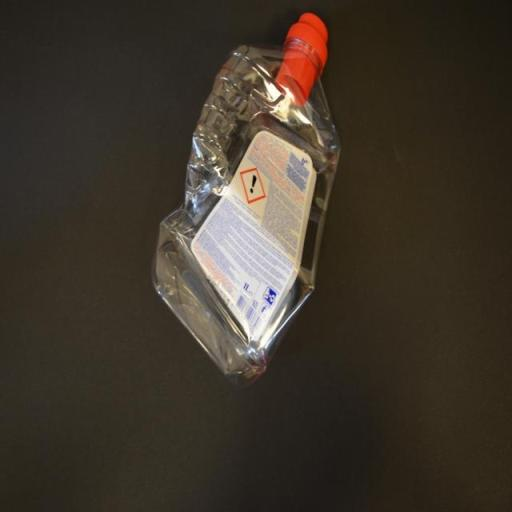plastic: (150, 12, 343, 394)
